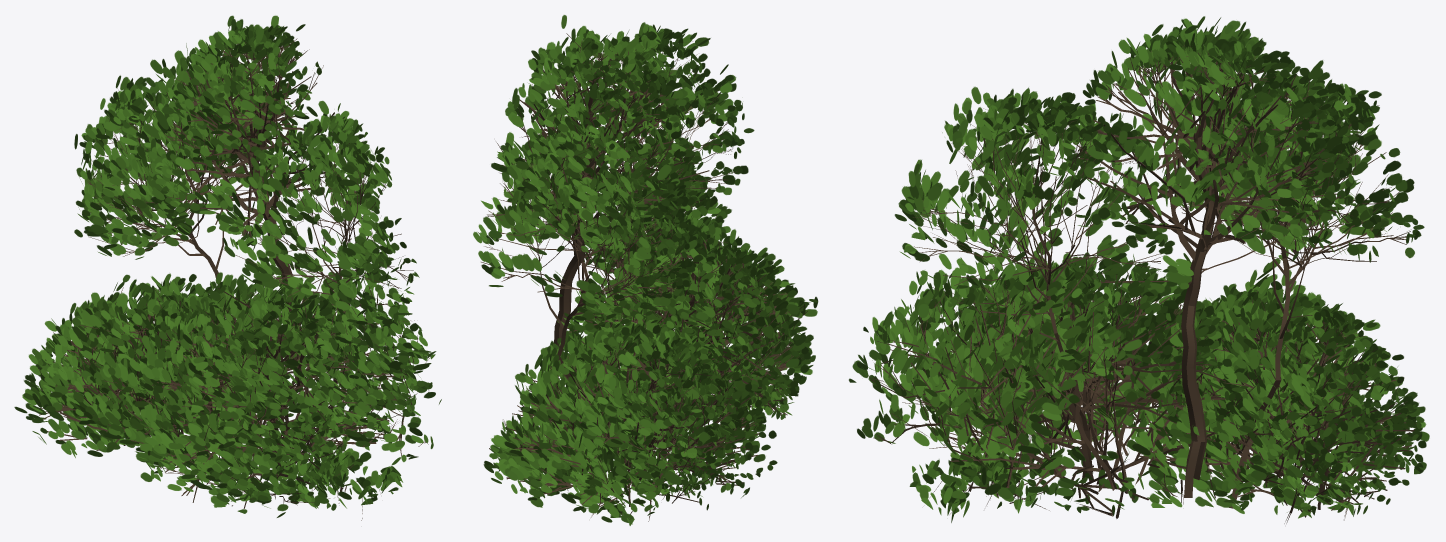
3 renders of one model, left to right at view 1: azimuth 30°, elevation 25°; view 2: azimuth 150°, elevation 25°; view 3: azimuth 270°, elevation 25°, orthographic. The views are drawn at different scales.
Parts seen in each view (by area): view 1: oak 01.001_trunk_Mat.001_0.202; view 2: oak 01.001_trunk_Mat.001_0.202; view 3: oak 01.001_trunk_Mat.001_0.202.
Part boxes in pixels (left/top/right/bottom): oak 01.001_trunk_Mat.001_0.202: left=14, top=15, right=441, bottom=520; oak 01.001_trunk_Mat.001_0.202: left=473, top=15, right=818, bottom=525; oak 01.001_trunk_Mat.001_0.202: left=849, top=16, right=1429, bottom=523.
Size of the model in its own units: 2.6 by 4.05 by 4.25.
Materials: 2 (1 with a texture image).
